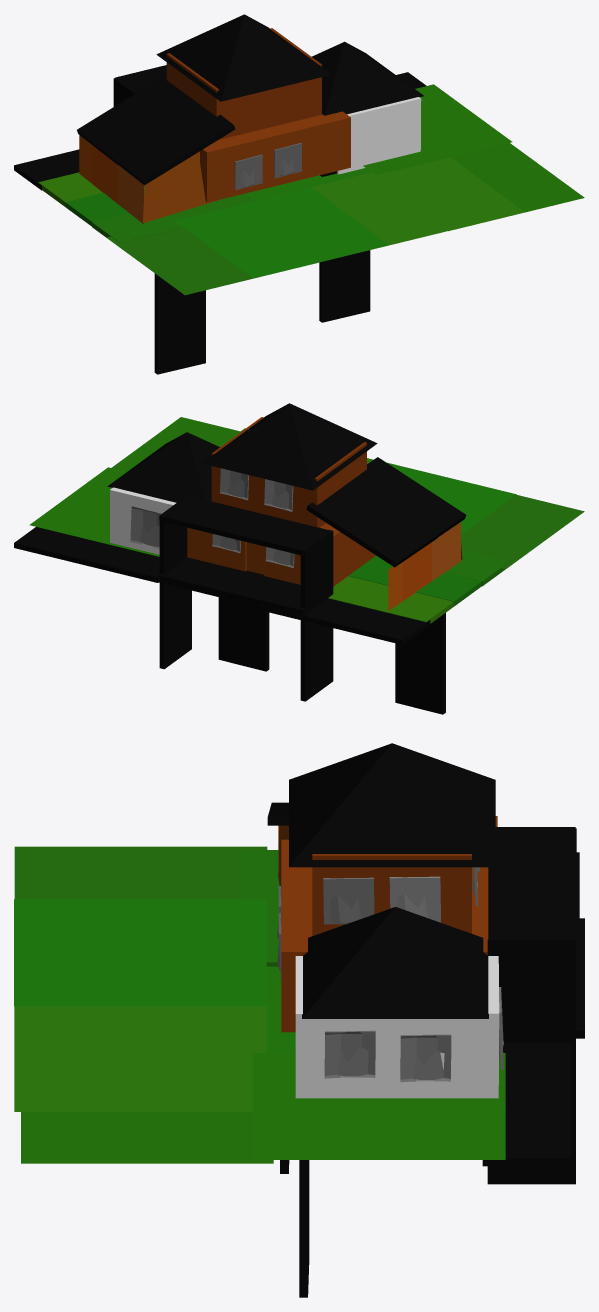
The model's file is csasa3.glb.
The picture shows the model from 3 angles, top to bottom: view 1: azimuth 30°, elevation 25°; view 2: azimuth 150°, elevation 25°; view 3: azimuth 270°, elevation 25°; orthographic projection. The views are drawn at different scales.
Visible parts, largest first — view 1: Plano, Plano.001, Techo, Primer_Piso, Segundo_Piso, Garage_Roof.001, Plano.003, Plano.005, Techo.001, Plano.004, Porche.005, Garage (+14 smaller); view 2: Techo, Garage_Roof.001, Techo_Porche, Plano.005, Techo.001, Porche.004, Porche, Primer_Piso, Porche.005, Segundo_Piso, Porche.002, Plano.003 (+18 smaller); view 3: Plano, Plano.001, Techo, Plano.003, Techo.001, Garage, Plano.005, Plano.004, Techo_Porche, Porche.002, Segundo_Piso, Primer_Piso (+10 smaller).
Part boxes in pixels (left/top/right/bottom): Plano: left=174, top=187, right=389, bottom=278; Plano.001: left=311, top=157, right=524, bottom=244; Techo: left=156, top=14, right=332, bottom=101; Primer_Piso: left=200, top=111, right=350, bottom=202; Segundo_Piso: left=166, top=28, right=321, bottom=139; Garage_Roof.001: left=77, top=74, right=203, bottom=165; Plano.003: left=363, top=84, right=512, bottom=175; Plano.005: left=106, top=227, right=282, bottom=295; Techo.001: left=312, top=41, right=424, bottom=115; Plano.004: left=448, top=143, right=584, bottom=231; Porche.005: left=154, top=273, right=205, bottom=374; Garage: left=337, top=97, right=421, bottom=174; Techo: left=201, top=403, right=377, bottom=490; Garage_Roof.001: left=306, top=478, right=439, bottom=567; Techo_Porche: left=159, top=495, right=330, bottom=555; Plano.005: left=461, top=494, right=584, bottom=568; Techo.001: left=107, top=432, right=219, bottom=502; Porche.004: left=300, top=529, right=333, bottom=701; Porche: left=158, top=557, right=330, bottom=615; Primer_Piso: left=187, top=523, right=375, bottom=586; Porche.005: left=395, top=613, right=445, bottom=714; Segundo_Piso: left=211, top=417, right=366, bottom=527; Porche.002: left=159, top=521, right=191, bottom=669; Plano.003: left=29, top=467, right=159, bottom=556; Plano: left=14, top=899, right=266, bottom=1006; Plano.001: left=14, top=1005, right=266, bottom=1111; Techo: left=289, top=743, right=495, bottom=867; Plano.003: left=253, top=1053, right=505, bottom=1159; Techo.001: left=302, top=907, right=488, bottom=1018; Garage: left=295, top=956, right=499, bottom=1098; Plano.005: left=14, top=846, right=267, bottom=899; Plano.004: left=21, top=1112, right=273, bottom=1163; Techo_Porche: left=488, top=828, right=576, bottom=948; Porche.002: left=487, top=940, right=575, bottom=1184; Segundo_Piso: left=312, top=854, right=471, bottom=935; Primer_Piso: left=281, top=839, right=488, bottom=1032.
Size of the model in its own units: 16.77 by 12.16 by 12.89.
